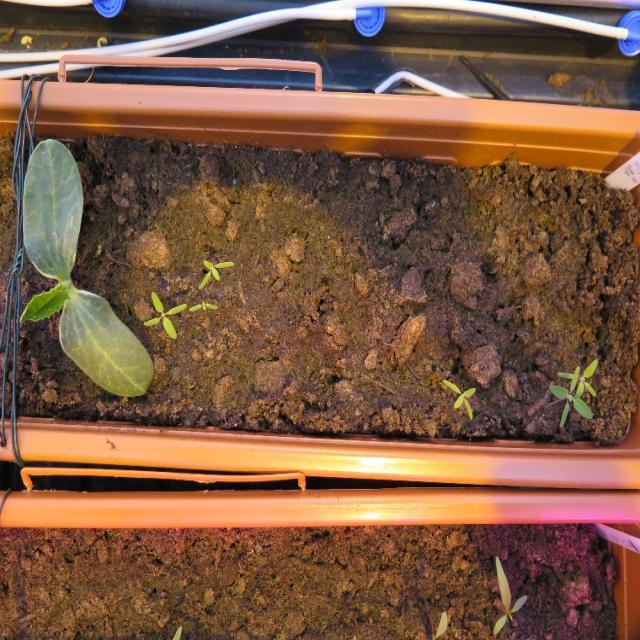weed: (492, 554, 526, 636), (141, 288, 186, 339), (441, 377, 475, 420), (197, 258, 234, 290), (188, 298, 218, 313)
